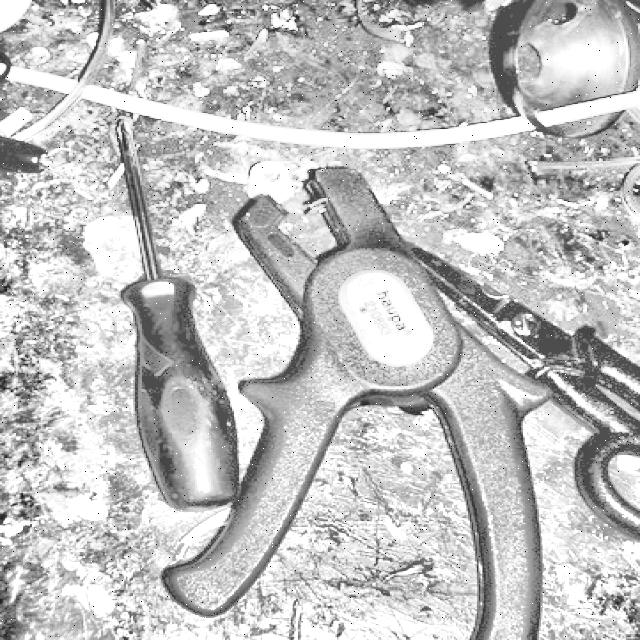screwdriver: (110, 112, 236, 510)
